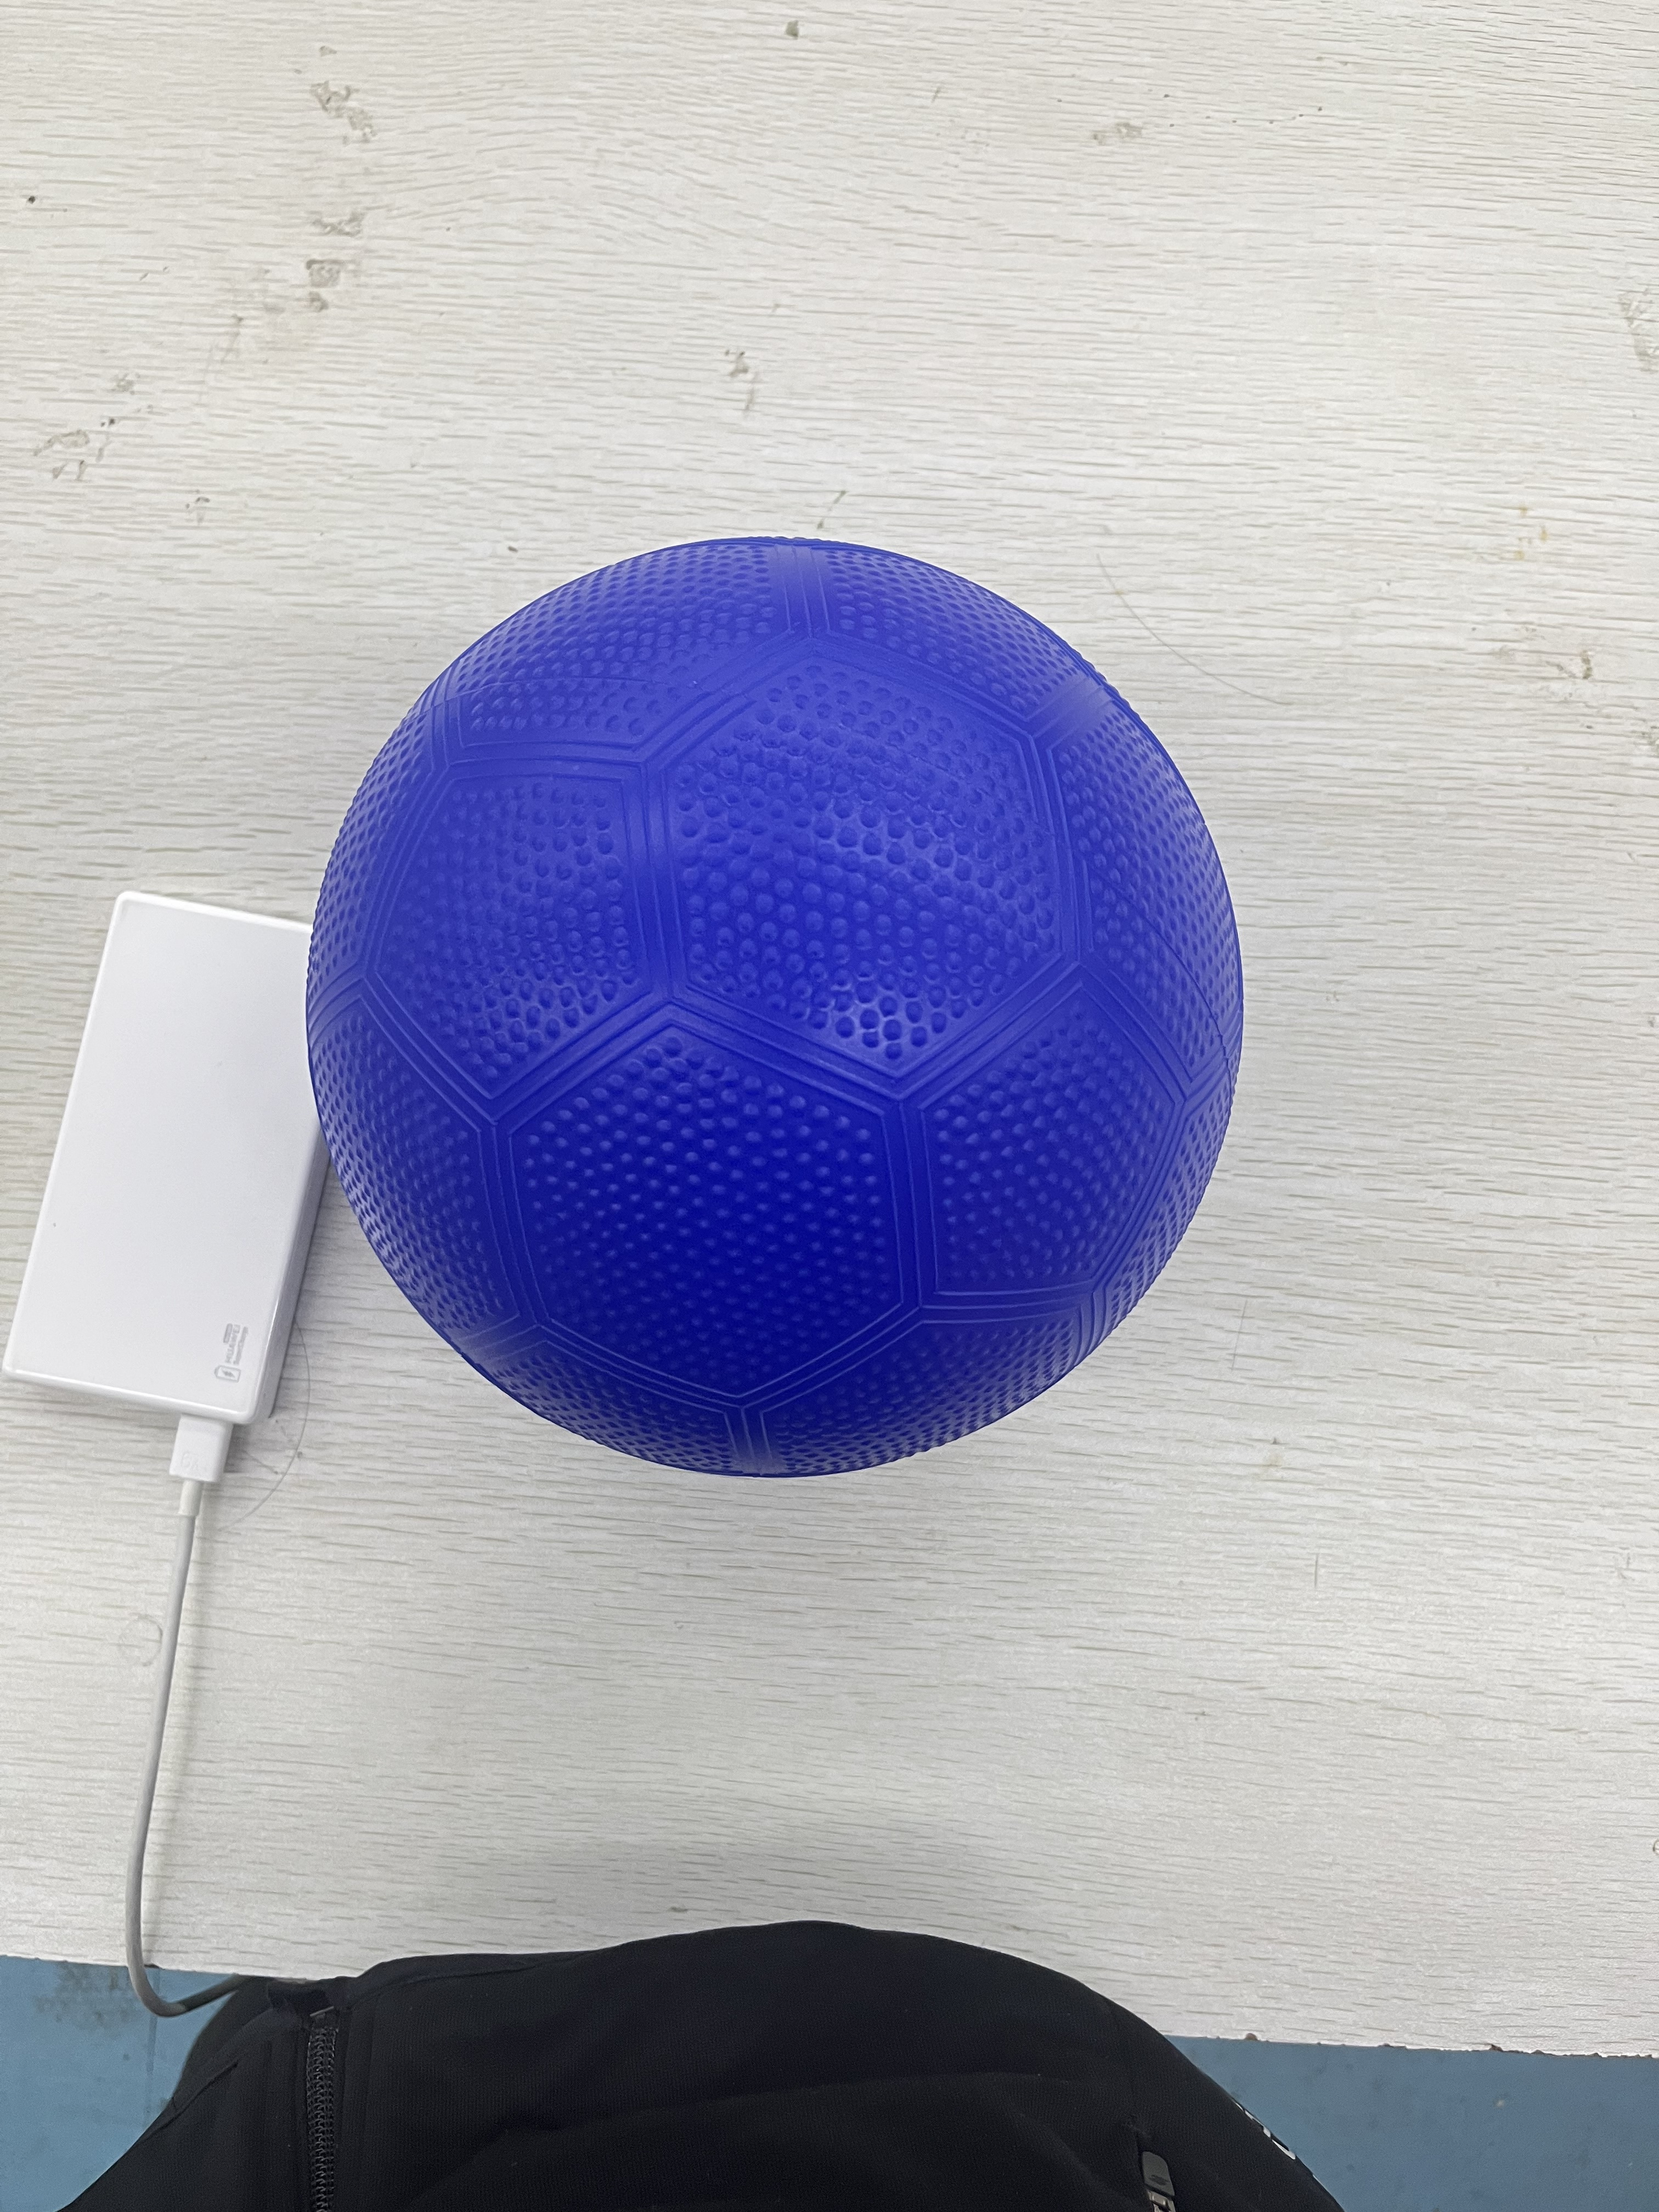blue: (308, 552, 1262, 1505)
